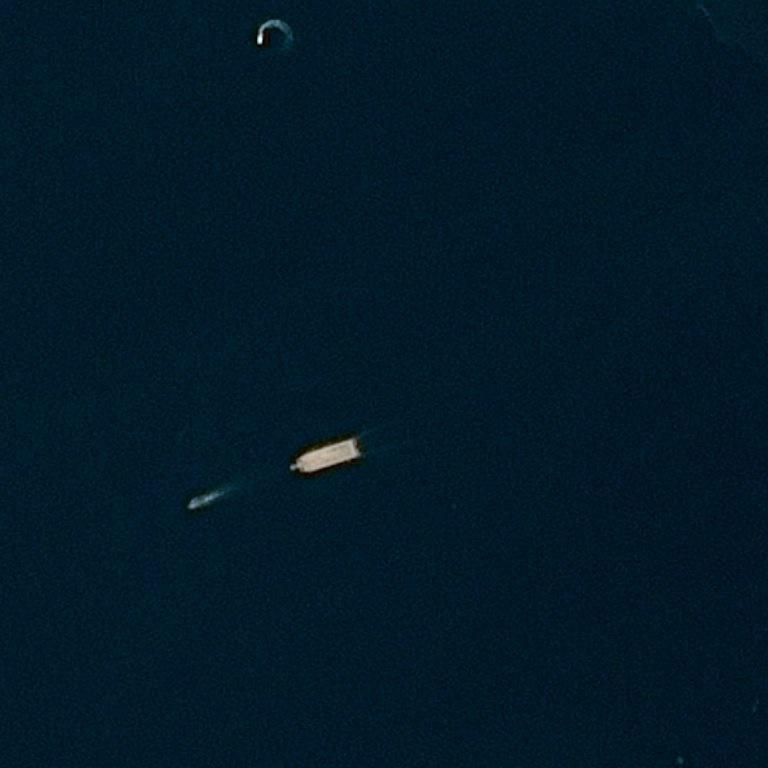ship: (325, 431, 329, 480), (185, 499, 208, 507), (259, 36, 262, 42), (291, 464, 295, 468), (351, 437, 355, 440), (358, 452, 361, 455), (259, 43, 261, 45), (187, 507, 189, 509), (4, 34, 5, 35), (198, 497, 199, 498), (262, 34, 262, 35), (50, 502, 50, 502)
